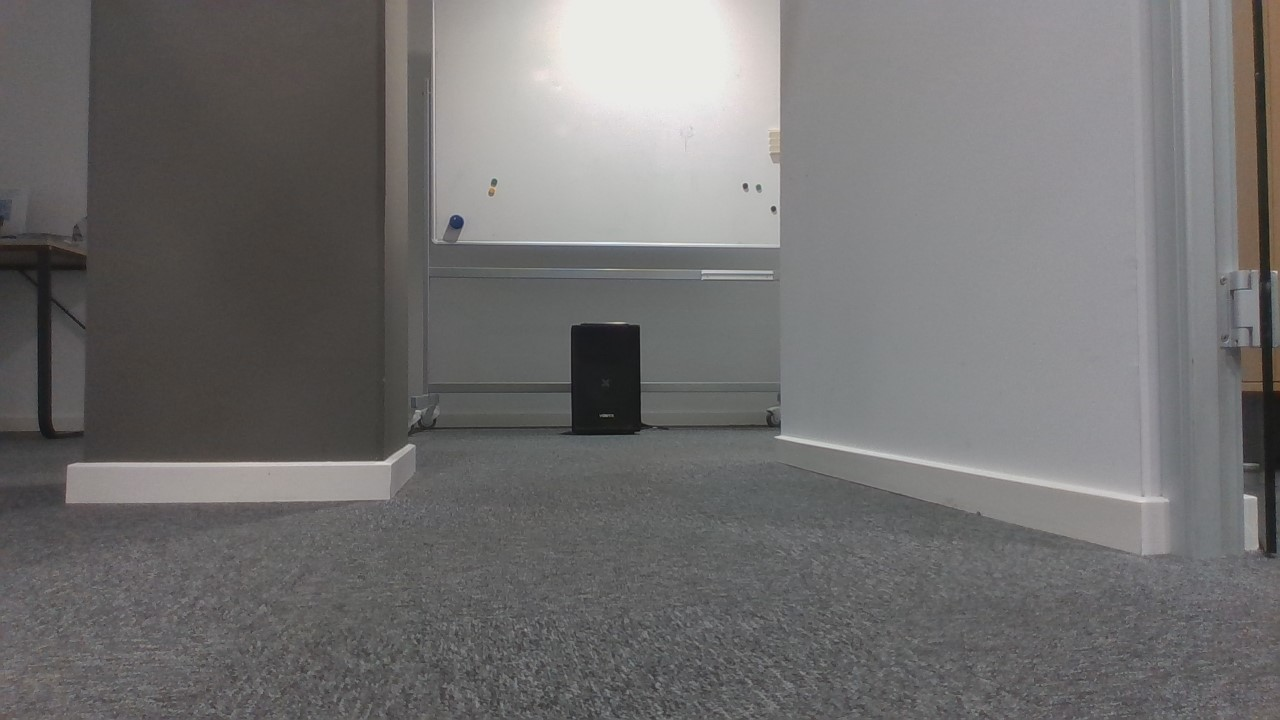alfa: (445, 211, 465, 233)
